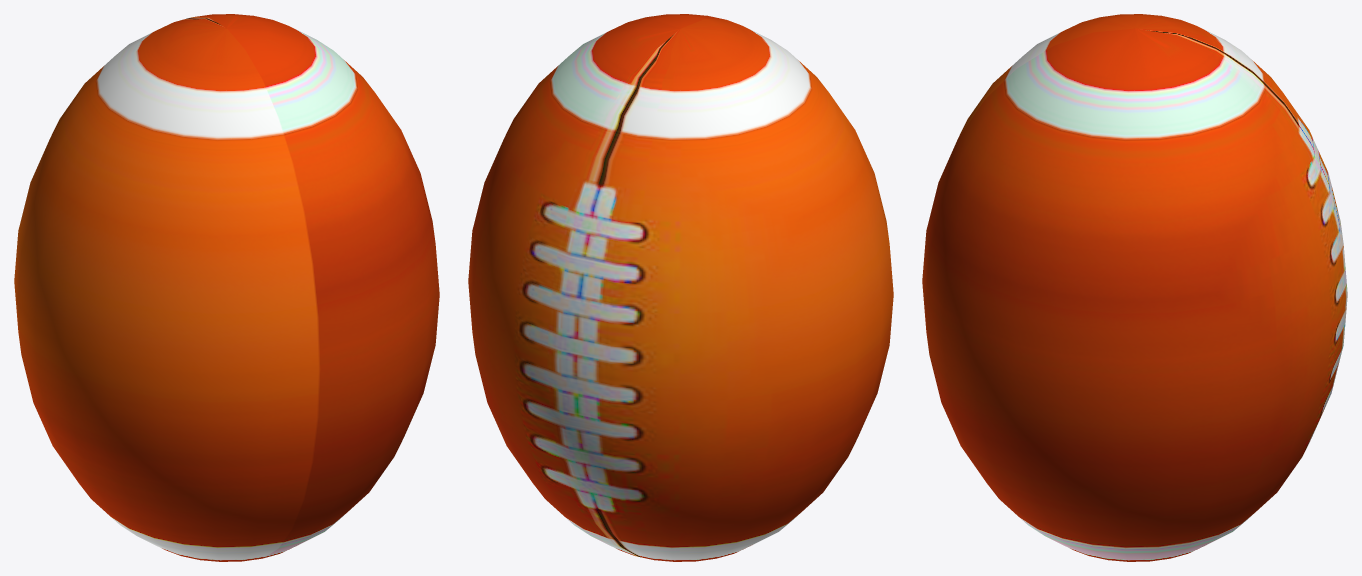
Rendered from af_ball.glb.
3 renders of one model, left to right at view 1: azimuth 30°, elevation 25°; view 2: azimuth 150°, elevation 25°; view 3: azimuth 270°, elevation 25°, orthographic.
Visible parts, largest first — view 1: Sphere; view 2: Sphere; view 3: Sphere.
Boxes of the visible parts, x1,y1,x2,y2 form: Sphere: (14,14,439,561); Sphere: (468,14,893,561); Sphere: (922,14,1347,561).
Size of the model in its own units: 0.0962 by 0.1294 by 0.0962.
Materials: 1 (1 with a texture image).
